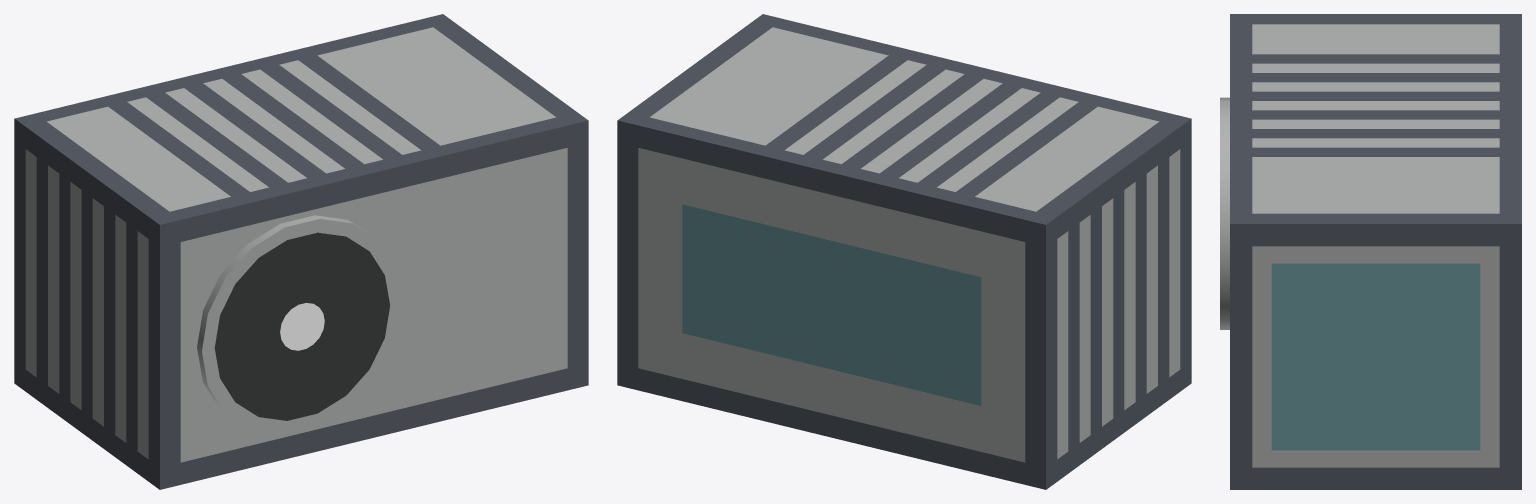
3 views of the same model, side by side, from view 1: azimuth 30°, elevation 25°; view 2: azimuth 150°, elevation 25°; view 3: azimuth 270°, elevation 25° (orthographic).
Parts seen in each view (by area): view 1: ac1; view 2: ac1; view 3: ac1.
Part boxes in pixels (bbox=[...]): ac1: bbox=[14, 14, 588, 489]; ac1: bbox=[617, 14, 1191, 489]; ac1: bbox=[1220, 14, 1521, 489].
Bounding box in the file's own units: 2.81 × 1.66 × 1.7.
